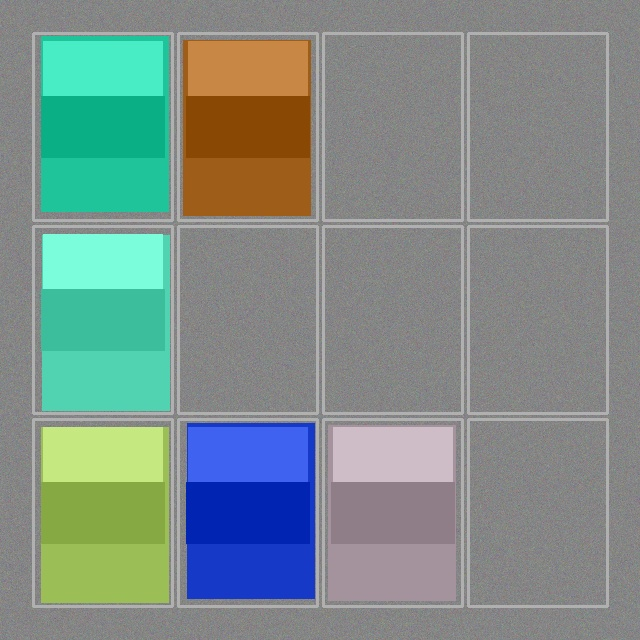space-empty: (325, 35, 460, 218), (470, 35, 605, 218), (180, 228, 315, 411), (325, 228, 460, 411), (470, 228, 605, 411), (470, 421, 605, 604)
space-occupied: (35, 35, 170, 218), (180, 35, 315, 218), (35, 228, 170, 411), (35, 421, 170, 604), (180, 421, 315, 604), (325, 421, 460, 604)
